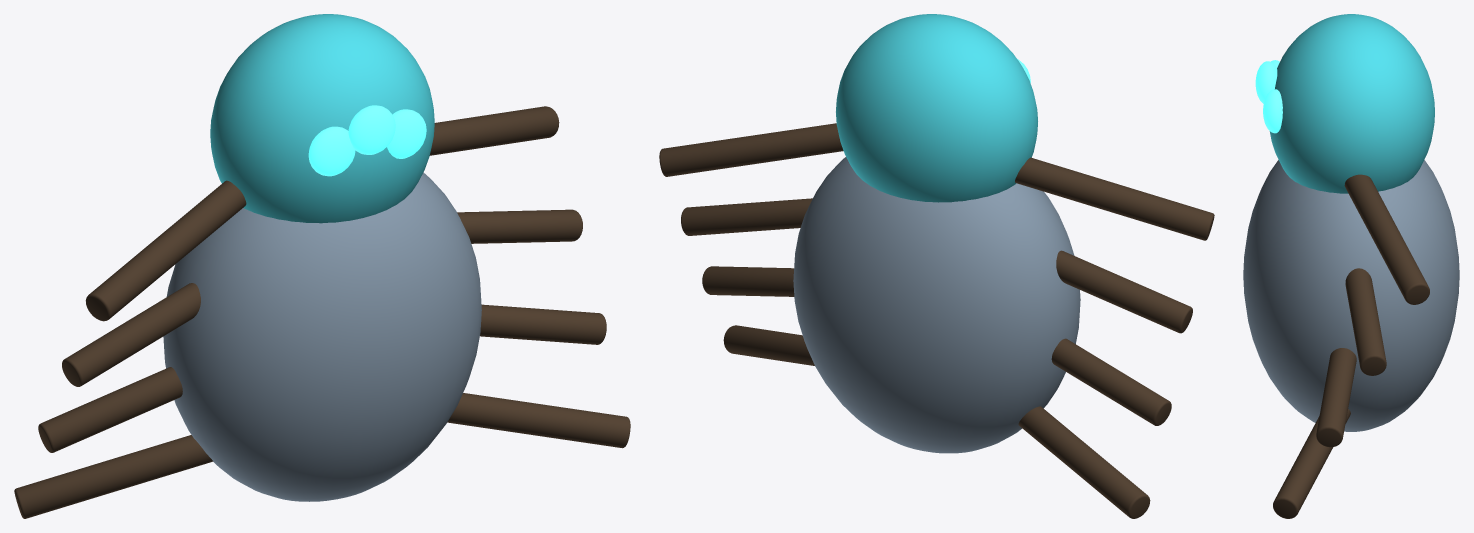
File: arachnid.glb
3 views of the same model, side by side, from view 1: azimuth 30°, elevation 25°; view 2: azimuth 150°, elevation 25°; view 3: azimuth 270°, elevation 25° (orthographic). The views are drawn at different scales.
Visible parts, largest first — view 1: ABDOMEN_PRIMARY, THORAX_ACCENT, LEG_L_SECONDARY.003, LEG_L_SECONDARY, LEG_R_SECONDARY.003, LEG_L_SECONDARY.001, LEG_L_SECONDARY.002, LEG_R_SECONDARY, LEG_R_SECONDARY.002, LEG_R_SECONDARY.001, EYE_EMISSIVE.001, EYE_EMISSIVE (+1 smaller); view 2: ABDOMEN_PRIMARY, THORAX_ACCENT, LEG_L_SECONDARY, LEG_R_SECONDARY, LEG_L_SECONDARY.003, LEG_L_SECONDARY.001, LEG_L_SECONDARY.002, LEG_R_SECONDARY.001, LEG_R_SECONDARY.002, LEG_R_SECONDARY.003; view 3: ABDOMEN_PRIMARY, THORAX_ACCENT, LEG_R_SECONDARY, LEG_R_SECONDARY.001, LEG_R_SECONDARY.002, LEG_R_SECONDARY.003, EYE_EMISSIVE.002, EYE_EMISSIVE.001.
Part boxes in pixels (x1=…): ABDOMEN_PRIMARY: x1=163, y1=172, x2=481, y2=501; THORAX_ACCENT: x1=210, y1=14, x2=434, y2=223; LEG_L_SECONDARY.003: x1=14, y1=435, x2=213, y2=518; LEG_L_SECONDARY: x1=85, y1=180, x2=246, y2=321; LEG_R_SECONDARY.003: x1=447, y1=393, x2=630, y2=448; LEG_L_SECONDARY.001: x1=62, y1=283, x2=200, y2=386; LEG_L_SECONDARY.002: x1=38, y1=367, x2=182, y2=452; LEG_R_SECONDARY: x1=429, y1=106, x2=559, y2=155; LEG_R_SECONDARY.002: x1=480, y1=304, x2=606, y2=344; LEG_R_SECONDARY.001: x1=457, y1=209, x2=582, y2=243; EYE_EMISSIVE.001: x1=348, y1=105, x2=395, y2=154; EYE_EMISSIVE: x1=308, y1=126, x2=355, y2=176; ABDOMEN_PRIMARY: x1=793, y1=157, x2=1080, y2=453; THORAX_ACCENT: x1=836, y1=14, x2=1037, y2=202; LEG_L_SECONDARY: x1=1015, y1=157, x2=1214, y2=240; LEG_R_SECONDARY: x1=659, y1=123, x2=843, y2=176; LEG_L_SECONDARY.003: x1=1018, y1=406, x2=1150, y2=518; LEG_L_SECONDARY.001: x1=1056, y1=250, x2=1192, y2=333; LEG_L_SECONDARY.002: x1=1051, y1=338, x2=1171, y2=425; LEG_R_SECONDARY.001: x1=681, y1=198, x2=812, y2=235; LEG_R_SECONDARY.002: x1=702, y1=266, x2=794, y2=296; LEG_R_SECONDARY.003: x1=723, y1=325, x2=814, y2=365; ABDOMEN_PRIMARY: x1=1243, y1=160, x2=1459, y2=431; THORAX_ACCENT: x1=1269, y1=14, x2=1434, y2=193; LEG_R_SECONDARY: x1=1344, y1=174, x2=1429, y2=304; LEG_R_SECONDARY.001: x1=1345, y1=268, x2=1386, y2=375; LEG_R_SECONDARY.002: x1=1316, y1=348, x2=1356, y2=447; LEG_R_SECONDARY.003: x1=1273, y1=409, x2=1350, y2=518; EYE_EMISSIVE.002: x1=1263, y1=89, x2=1282, y2=133; EYE_EMISSIVE.001: x1=1255, y1=61, x2=1277, y2=103.
Bounding box in the file's own units: 2.14 × 1.78 × 0.88.
